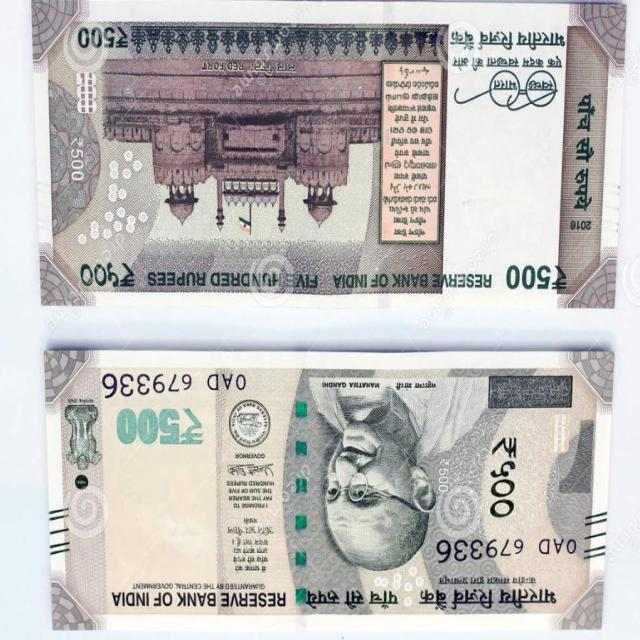500IndianRupees: (32, 0, 622, 312)
